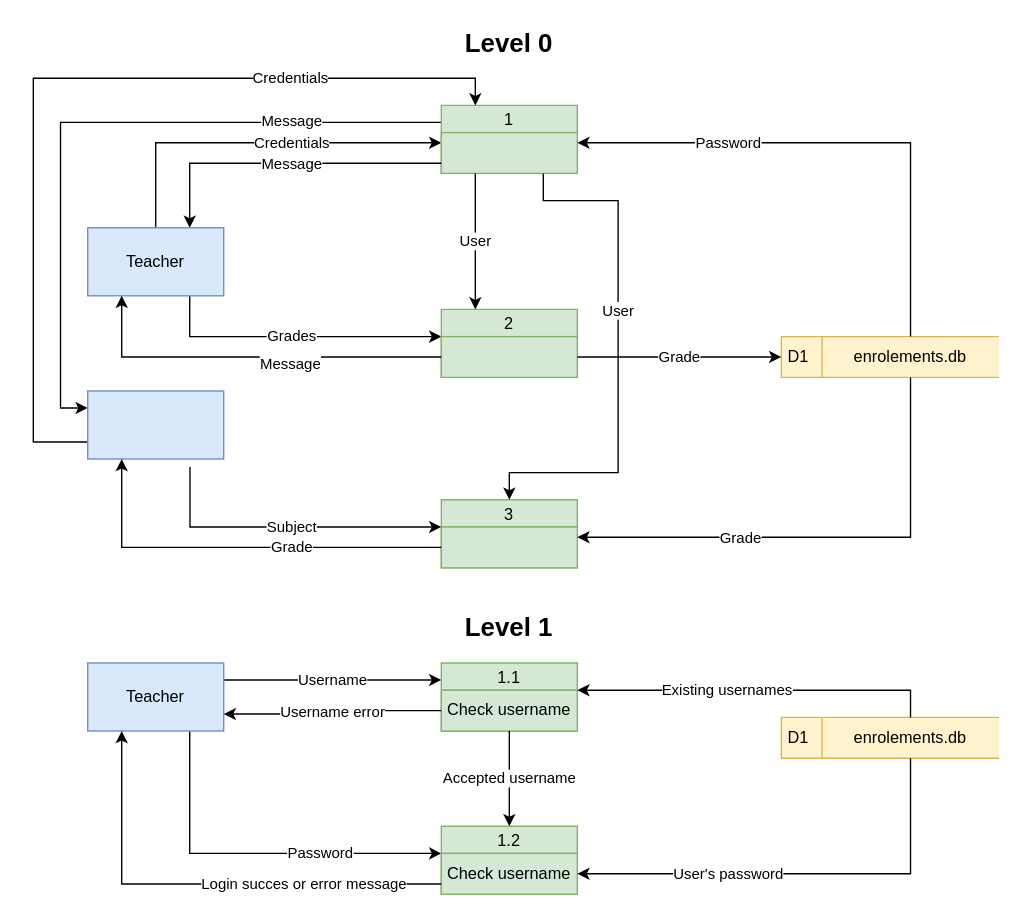
The diagram is 1023 pixels wide and 918 high, and some of its shapes have lost their labels. The centre of each missing label's shape, as x and y in pixels:
Enter grades: pixel 508 356
Log in: pixel 508 152
Student: pixel 155 424
View grades: pixel 508 547
